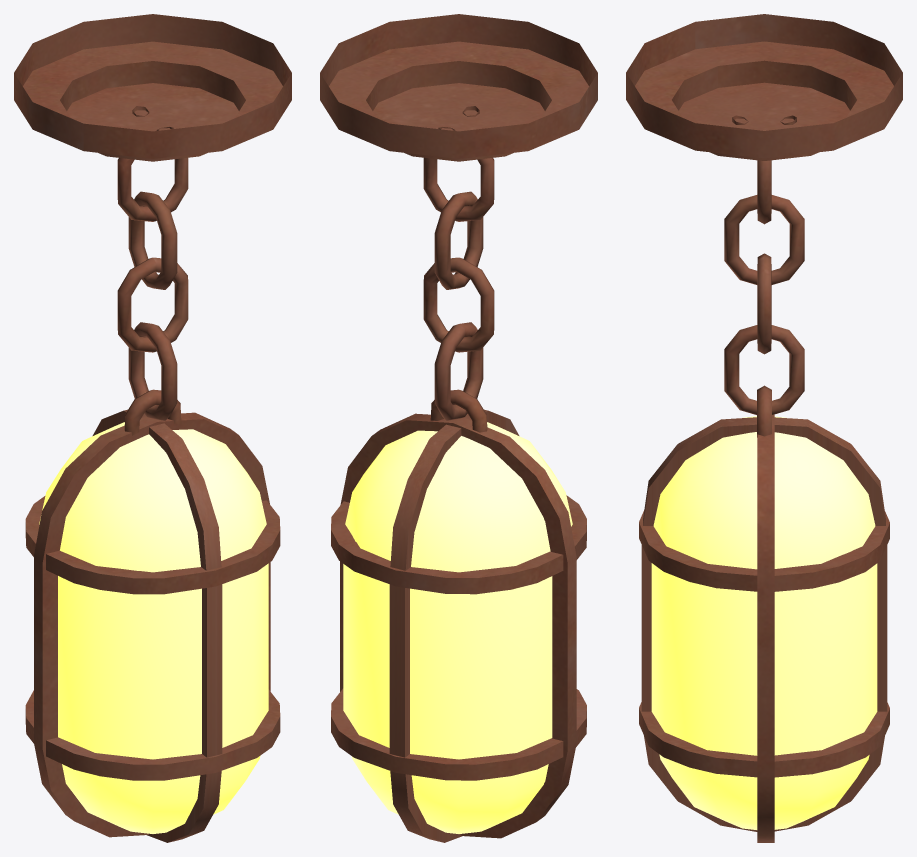
The model's file is Marine_CeilingMounted_Chained_FullBulb_2Hor.fbx.
3 views of the same model, side by side, from view 1: azimuth 30°, elevation 25°; view 2: azimuth 150°, elevation 25°; view 3: azimuth 270°, elevation 25° (orthographic).
Parts seen in each view (by area): view 1: Marine_CeilingMounted_Chained_FullBulb_2Hor; view 2: Marine_CeilingMounted_Chained_FullBulb_2Hor; view 3: Marine_CeilingMounted_Chained_FullBulb_2Hor.
Part boxes in pixels (x1,y1,x2,y2): Marine_CeilingMounted_Chained_FullBulb_2Hor: [14, 14, 291, 842]; Marine_CeilingMounted_Chained_FullBulb_2Hor: [320, 14, 597, 842]; Marine_CeilingMounted_Chained_FullBulb_2Hor: [626, 14, 902, 842].
Bounding box in the file's own units: 22.83 × 68.91 × 22.83.
2 materials, 1 textured.
